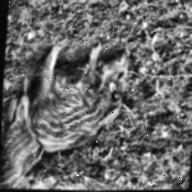boar: (26, 32, 134, 150)
